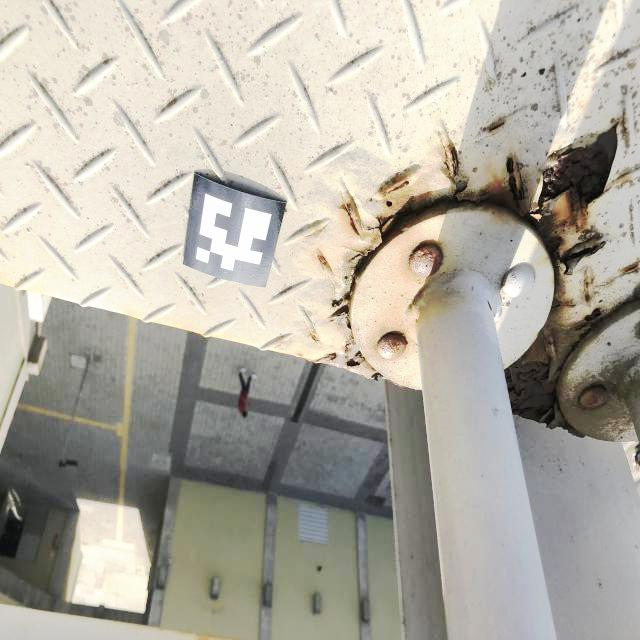Corrosion: (310, 115, 627, 387), (506, 305, 604, 439), (370, 326, 408, 362), (406, 242, 445, 277), (586, 387, 606, 408), (487, 121, 507, 135), (624, 263, 639, 273), (308, 332, 321, 343), (585, 281, 590, 288), (585, 293, 589, 301)
